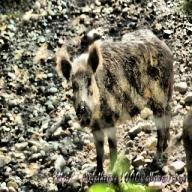boar: (56, 28, 174, 176)
